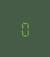zero: (19, 20, 29, 36)
